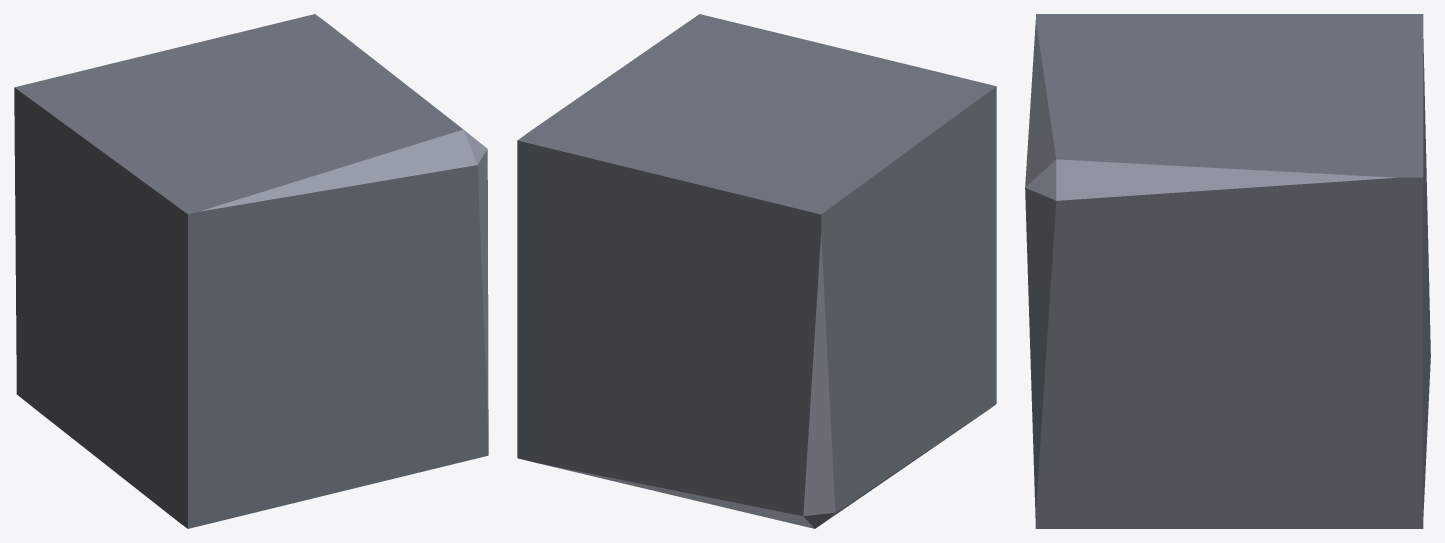
File: Stone_farm_1.fbx
3 views of the same model, side by side, from view 1: azimuth 30°, elevation 25°; view 2: azimuth 150°, elevation 25°; view 3: azimuth 270°, elevation 25° (orthographic). The views are drawn at different scales.
Parts seen in each view (by area): view 1: Cube; view 2: Cube; view 3: Cube.
Part boxes in pixels (bbox=[...]): Cube: bbox=[14, 14, 488, 528]; Cube: bbox=[517, 14, 996, 528]; Cube: bbox=[1025, 14, 1430, 528].
Bounding box in the file's own units: 0.684 × 0.684 × 0.684.
